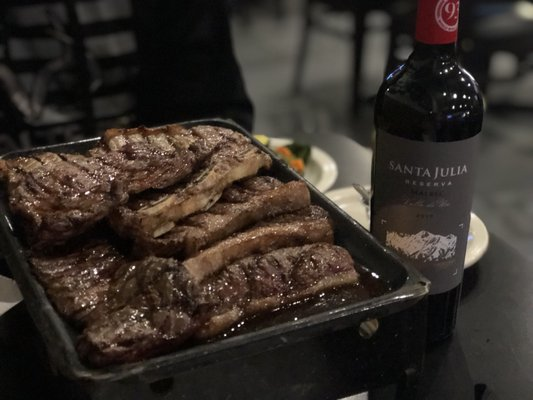burger: (369, 0, 484, 331)
sandwich: (1, 122, 364, 370)
